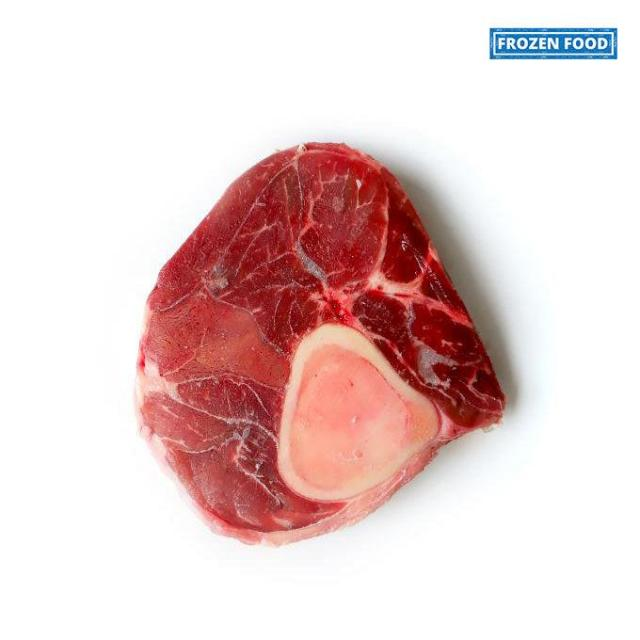Beef: (100, 137, 520, 548)
